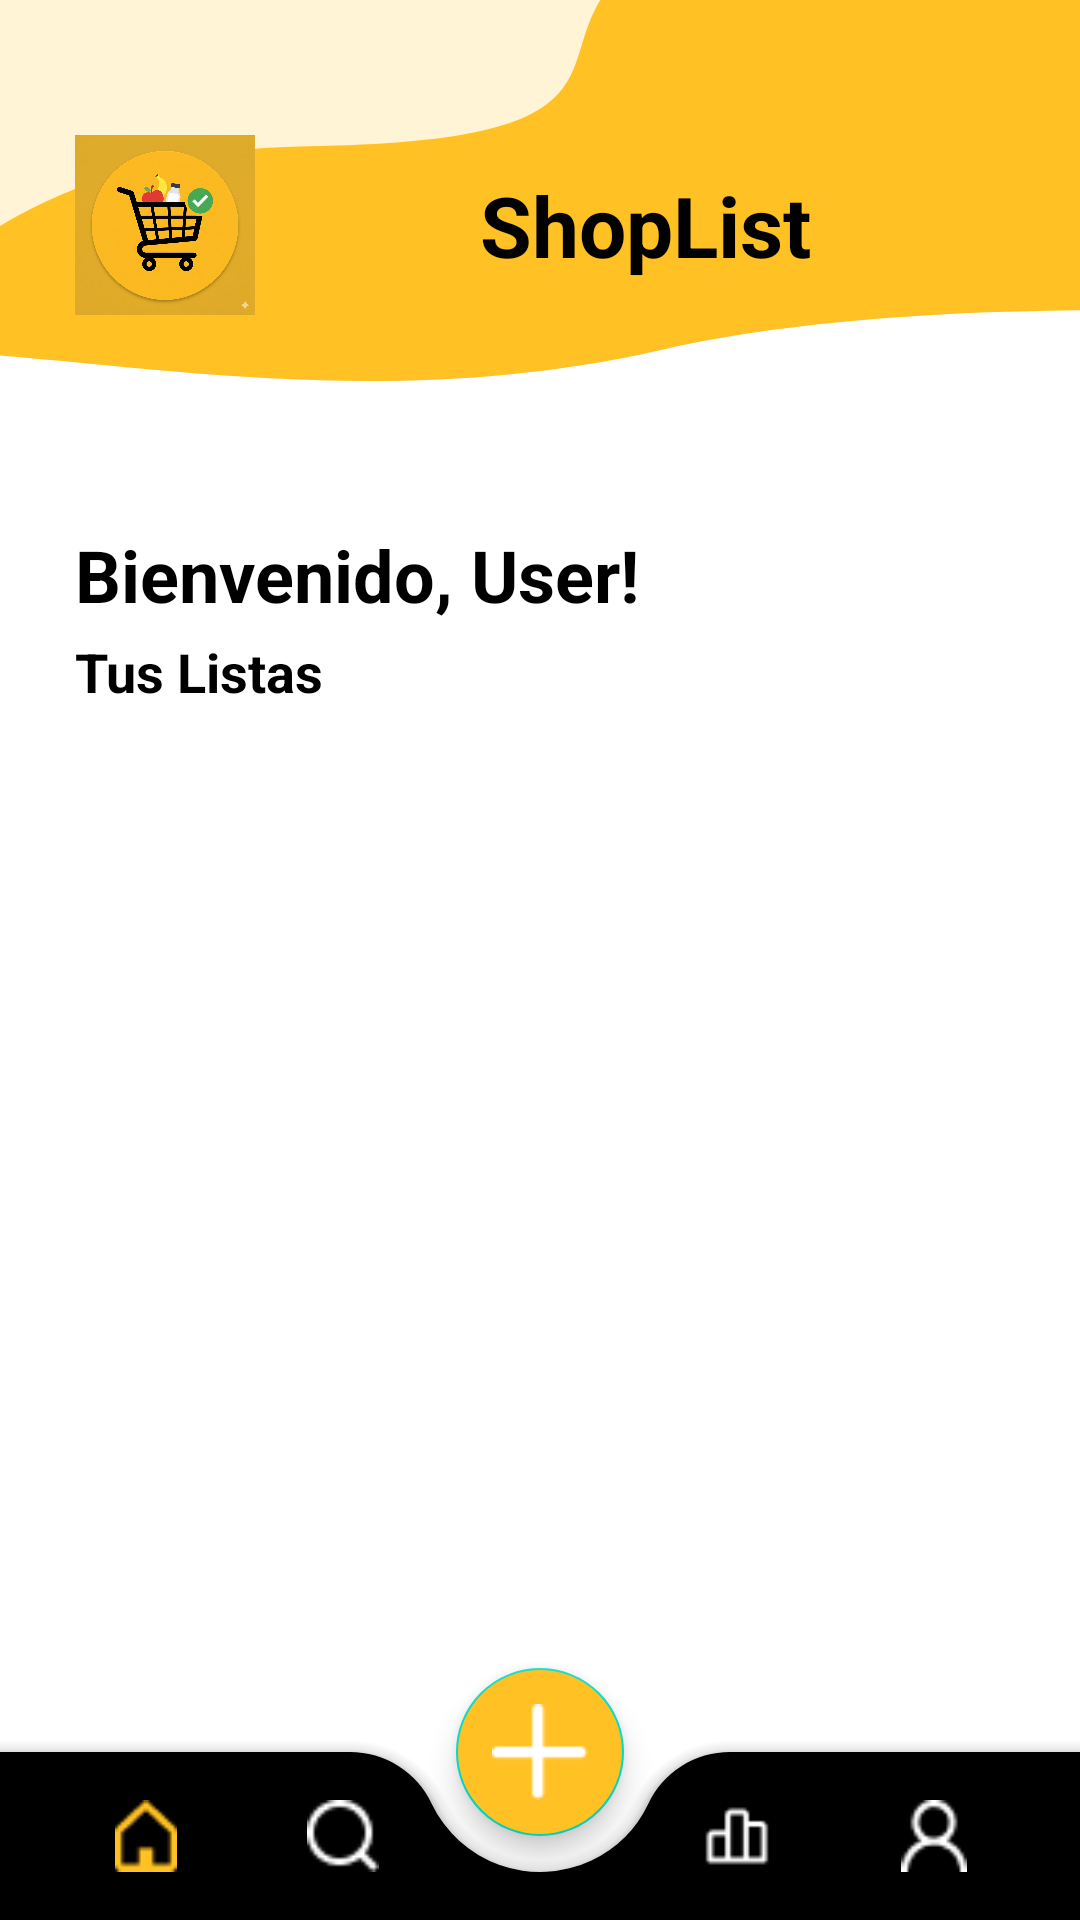

Icons on this 1080w x 1920h Android screen, each with its box as rect(x1, y1, x2, y2):
create list: rect(456, 1668, 624, 1836)
